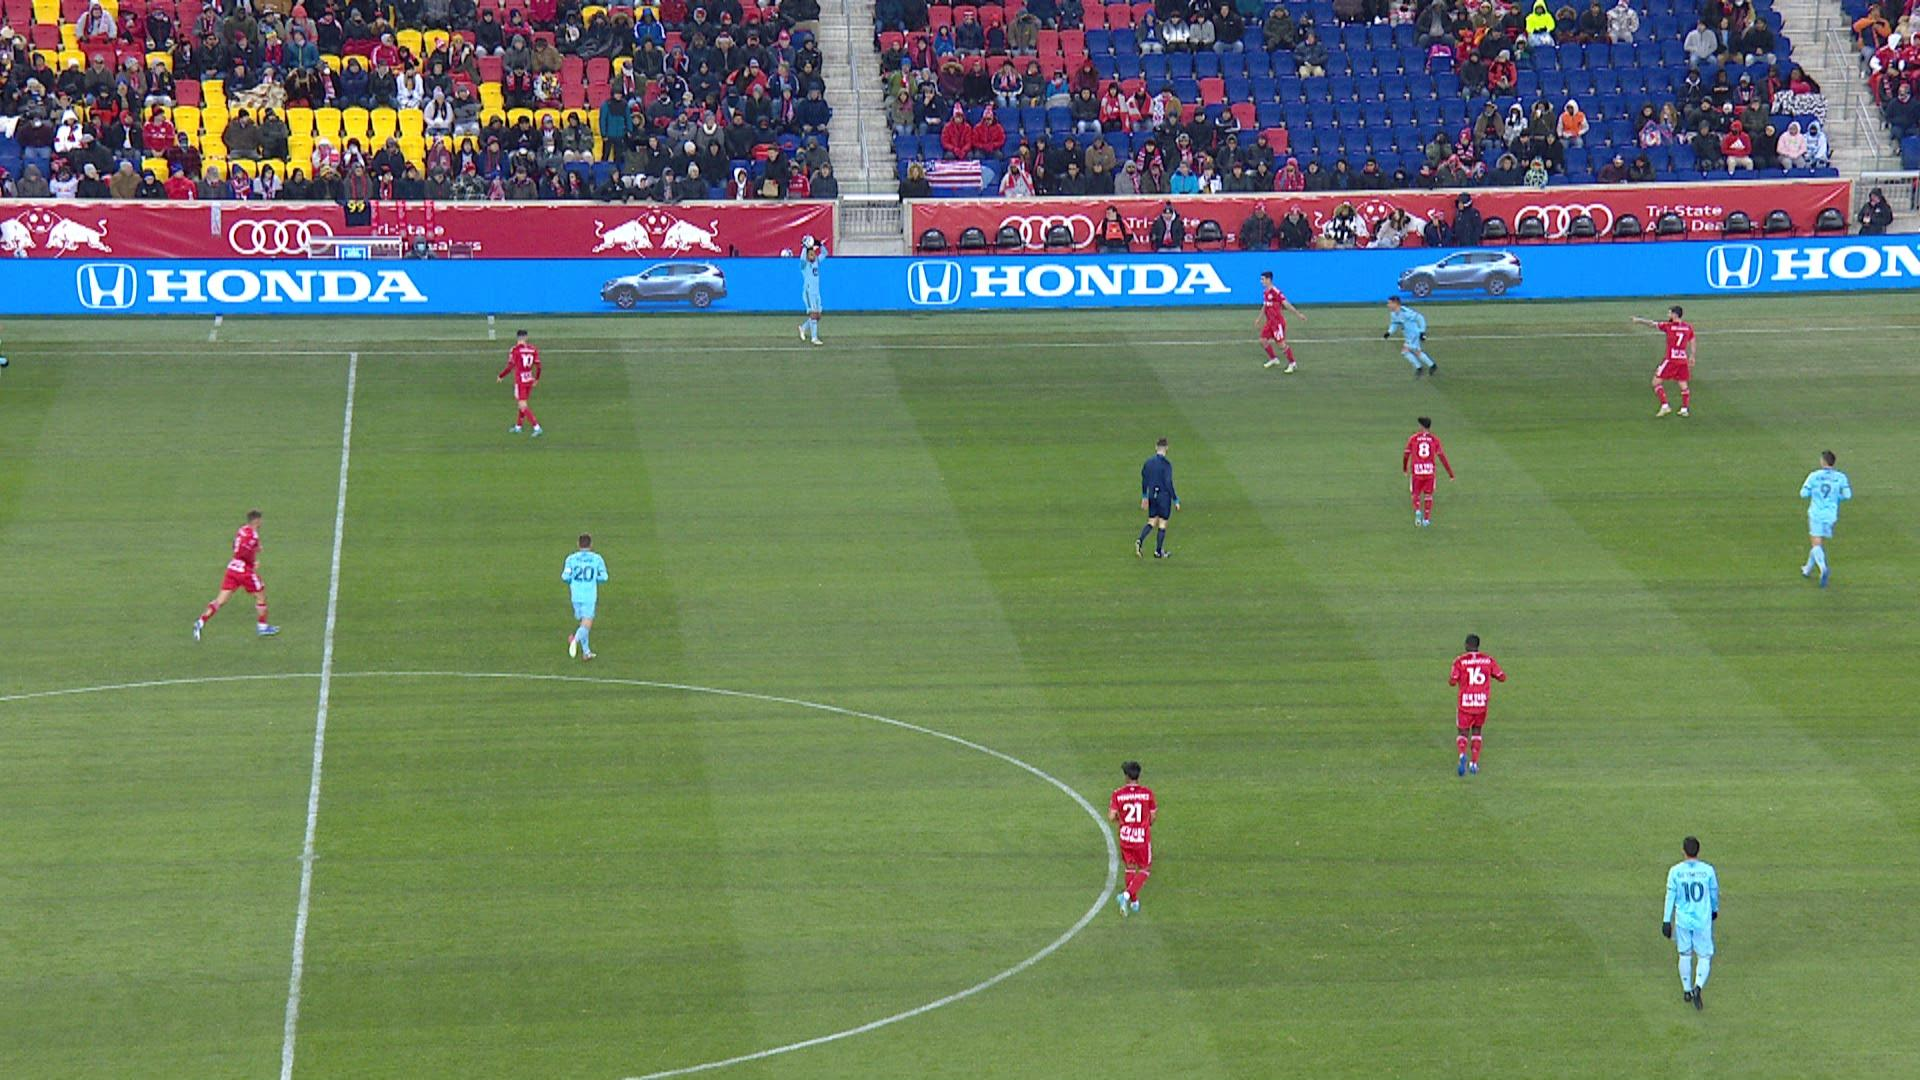football: (802, 235, 815, 248)
